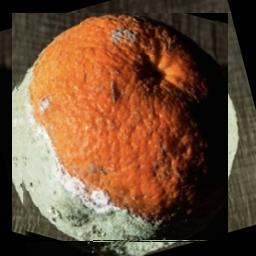Orange Rotten: (12, 14, 228, 243)
